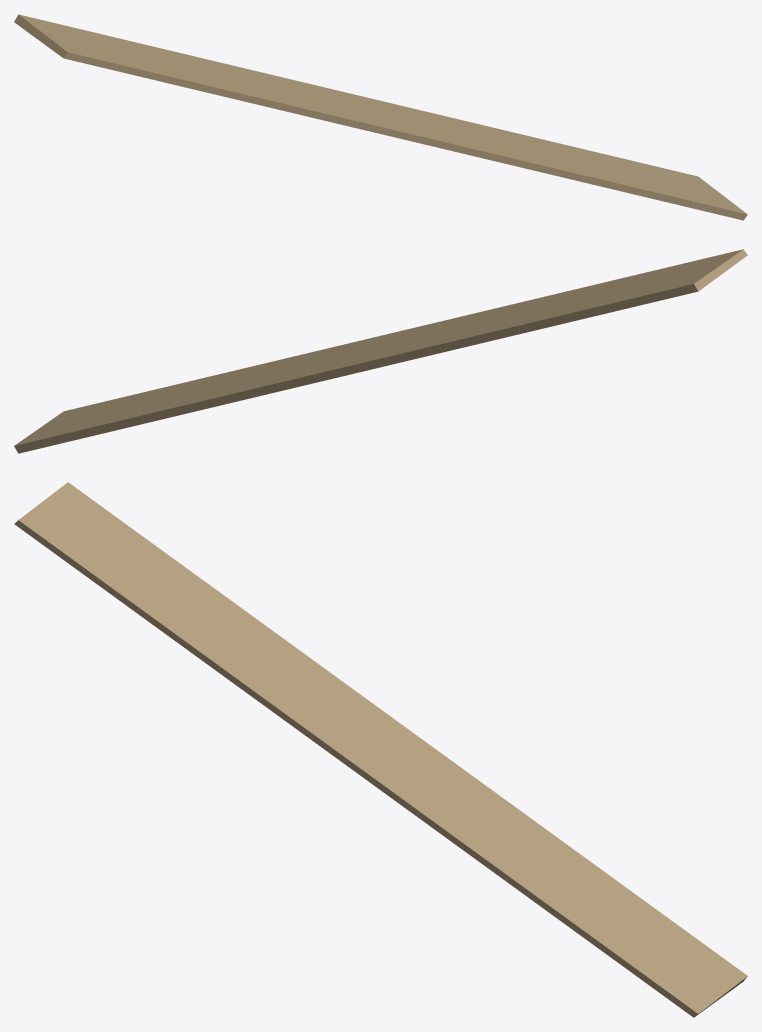
Rendered from Liniaal_Export.fbx.
The picture shows the model from 3 angles, top to bottom: view 1: azimuth 30°, elevation 25°; view 2: azimuth 150°, elevation 25°; view 3: azimuth 330°, elevation 25°; orthographic projection.
Parts seen in each view (by area): view 1: pCube13; view 2: pCube13; view 3: pCube13.
Part boxes in pixels (x1,y1,x2,y2): pCube13: [14, 14, 747, 220]; pCube13: [14, 249, 747, 453]; pCube13: [14, 482, 747, 1017].
Bounding box in the file's own units: 5.31 × 2.48 × 0.667.
